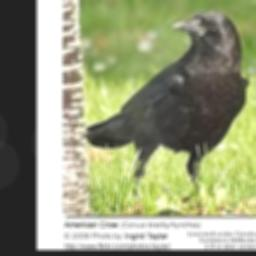Crow: (83, 9, 250, 216)
